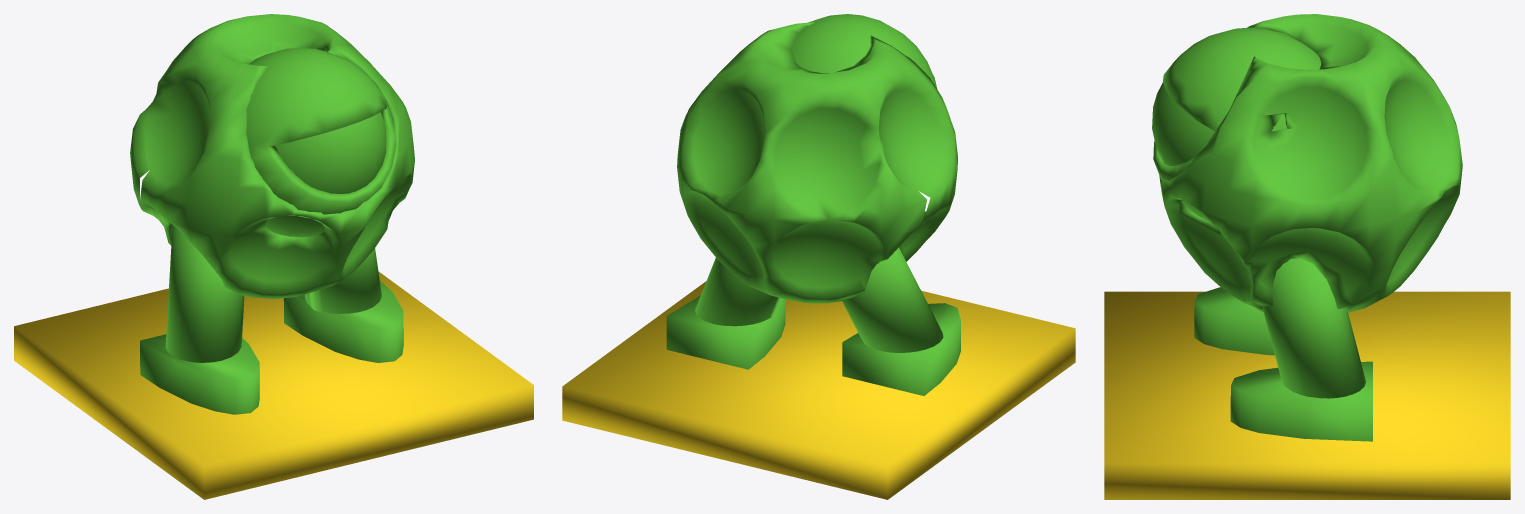
The model's file is adult_3.glb.
3 views of the same model, side by side, from view 1: azimuth 30°, elevation 25°; view 2: azimuth 150°, elevation 25°; view 3: azimuth 270°, elevation 25° (orthographic). The views are drawn at different scales.
Visible parts, largest first — view 1: figura, basetta; view 2: figura, basetta; view 3: figura, basetta.
Boxes of the visible parts, left/top/right/bottom form: figura: left=130, top=14, right=414, bottom=414; basetta: left=14, top=271, right=533, bottom=499; figura: left=666, top=14, right=960, bottom=395; basetta: left=562, top=281, right=1075, bottom=499; figura: left=1152, top=14, right=1462, bottom=441; basetta: left=1104, top=291, right=1510, bottom=499.
Size of the model in its own units: 0.02 by 0.0205 by 0.02.
